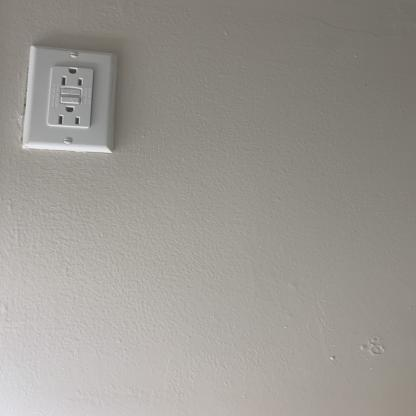OUTLET: (23, 46, 119, 150)
